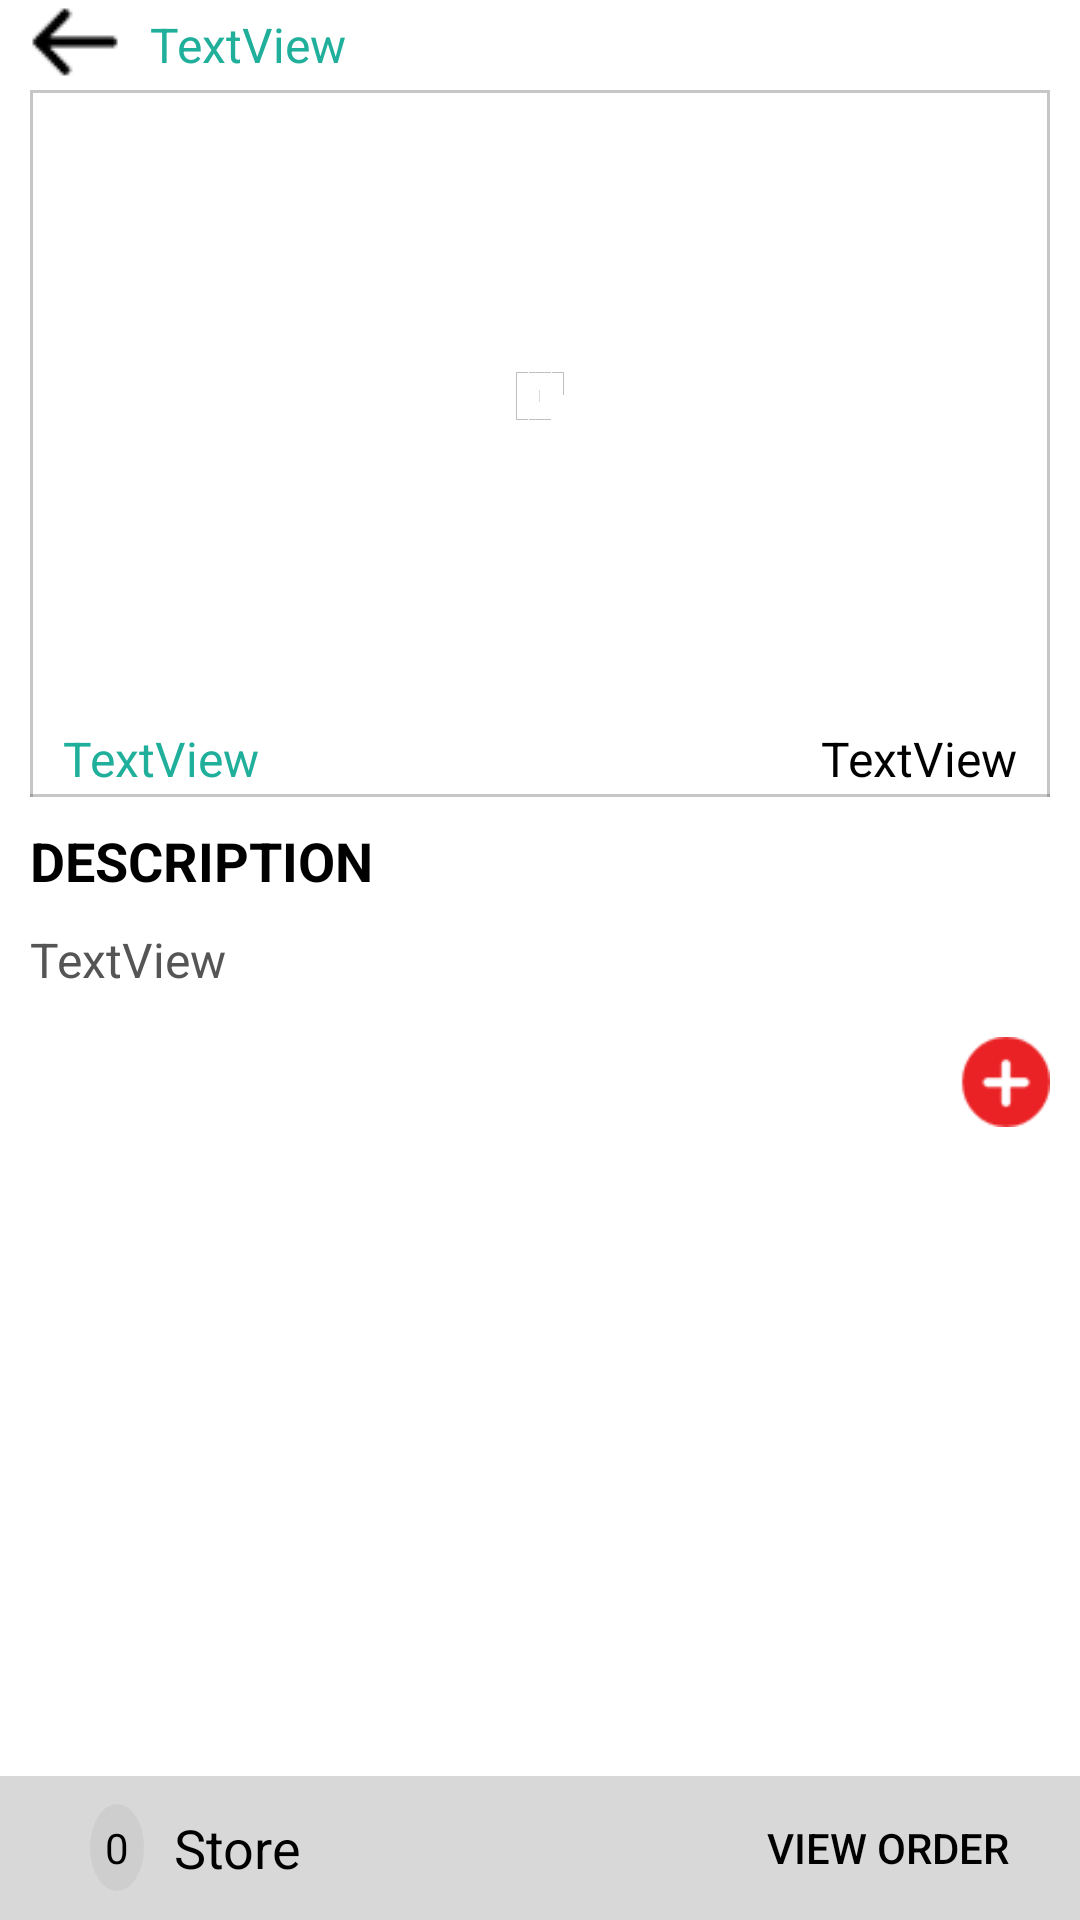

Locate icon controls on the screen. Image size 1080×1920, boxes as (x1, y1, x2, y2).
back: (32, 8, 118, 76)
